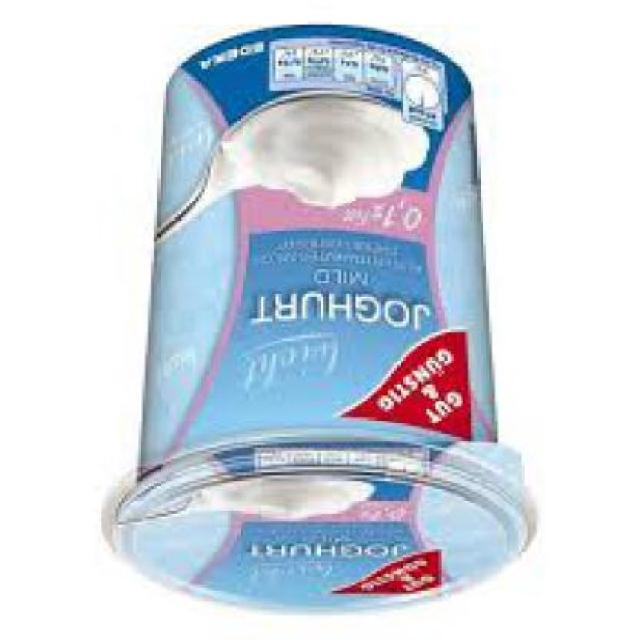PLASTIC: (109, 33, 540, 618), (107, 439, 542, 621)
